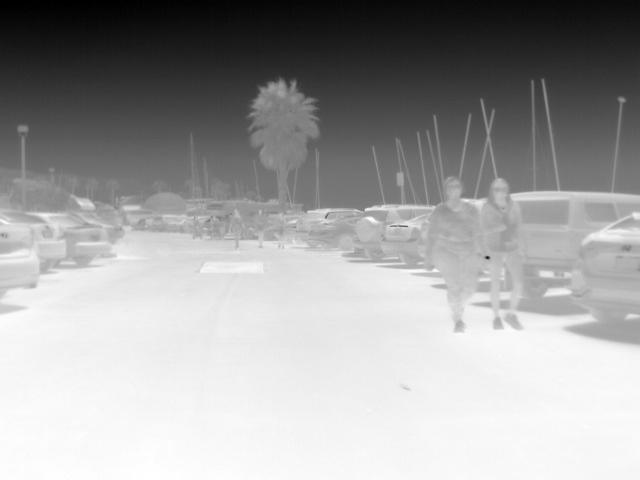car: (508, 190, 638, 299), (565, 210, 637, 331), (355, 204, 435, 262), (0, 206, 65, 273), (34, 211, 112, 265), (2, 222, 38, 302), (385, 213, 431, 267), (293, 206, 352, 246), (308, 213, 362, 252), (86, 220, 125, 245), (66, 190, 96, 216), (150, 213, 182, 232)
person: (425, 177, 484, 333), (477, 178, 527, 332), (225, 206, 246, 248), (252, 208, 268, 250), (273, 208, 288, 250), (207, 213, 222, 240)
